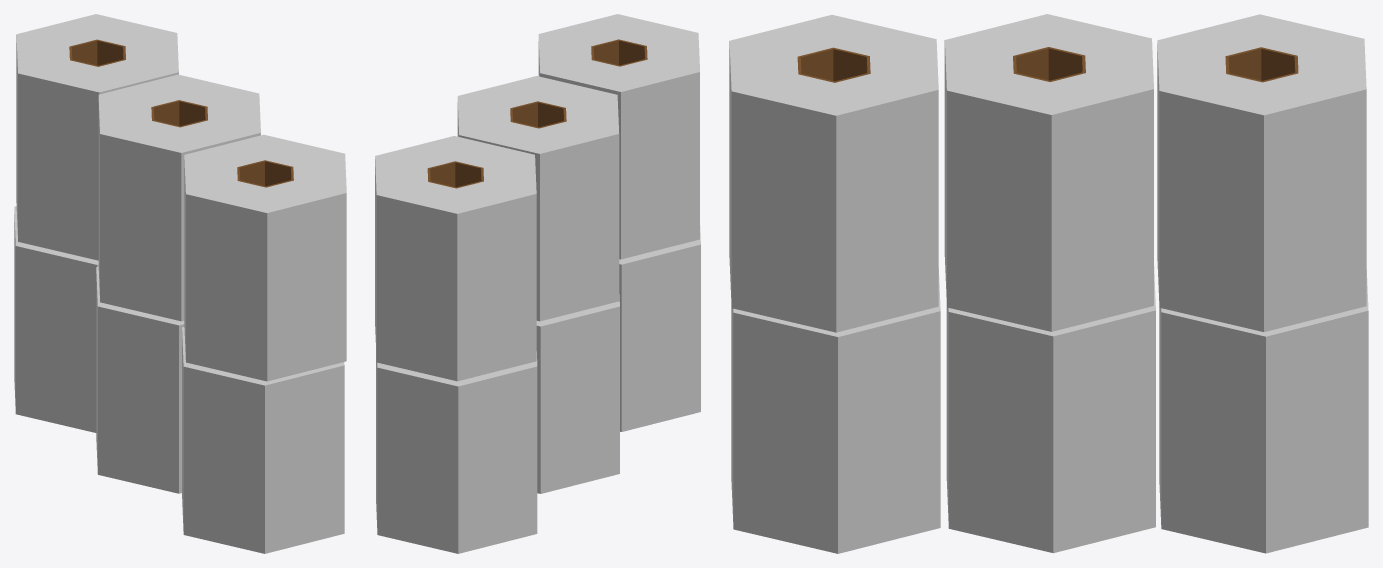
The picture shows the model from 3 angles, left to right: view 1: azimuth 30°, elevation 25°; view 2: azimuth 150°, elevation 25°; view 3: azimuth 270°, elevation 25°; orthographic projection. The views are drawn at different scales.
Visible parts, largest first — view 1: tp4; view 2: tp4; view 3: tp4.
Part boxes in pixels (<box>): tp4: <box>14,14,346,553</box>; tp4: <box>375,14,700,553</box>; tp4: <box>729,14,1368,553</box>.
Bounding box in the file's own units: 202 × 400 × 526.
